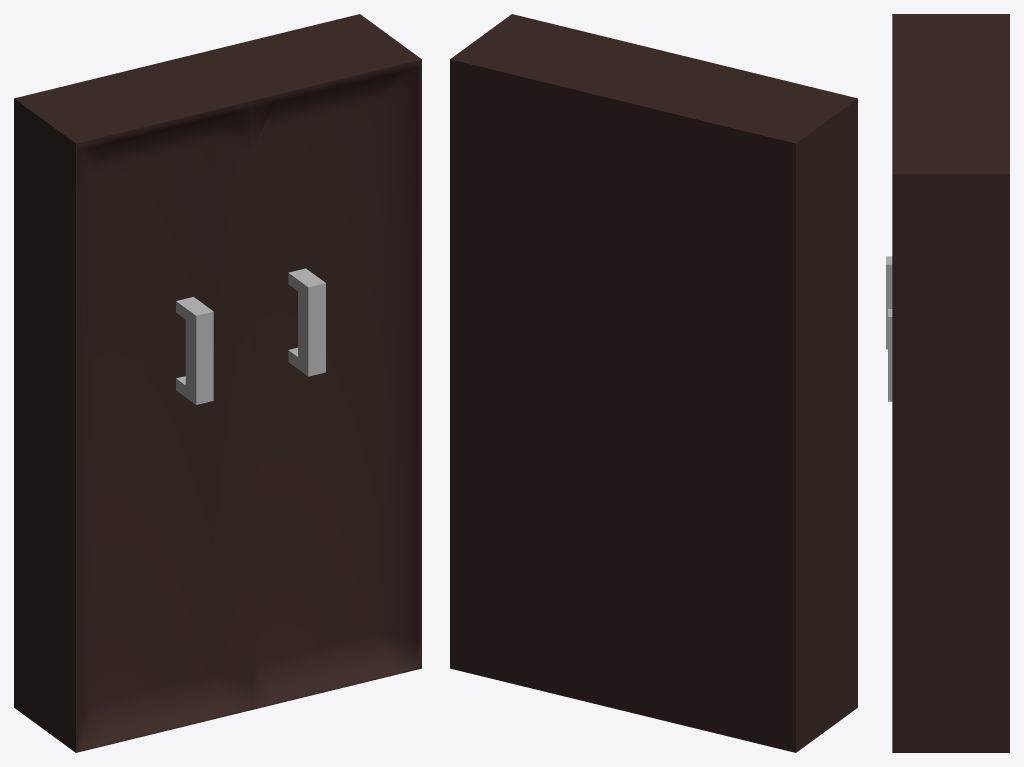
File: cupboard.obj
The picture shows the model from 3 angles, left to right: view 1: azimuth 30°, elevation 25°; view 2: azimuth 150°, elevation 25°; view 3: azimuth 270°, elevation 25°; orthographic projection. The views are drawn at different scales.
Parts seen in each view (by area): view 1: polySurface1; view 2: polySurface1; view 3: polySurface1.
Boxes of the visible parts, bbox=[...] form: polySurface1: bbox=[14, 14, 421, 752]; polySurface1: bbox=[450, 14, 857, 752]; polySurface1: bbox=[886, 14, 1009, 752].
Size of the model in its own units: 6.45 by 10.85 by 2.11.
